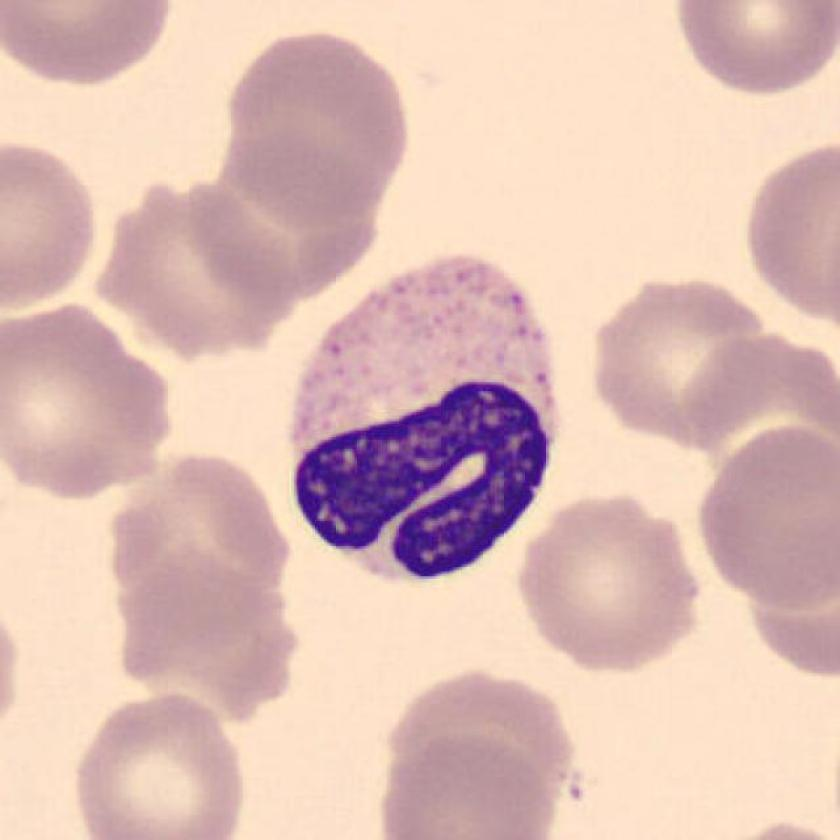neutrophil: (293, 257, 558, 584)
